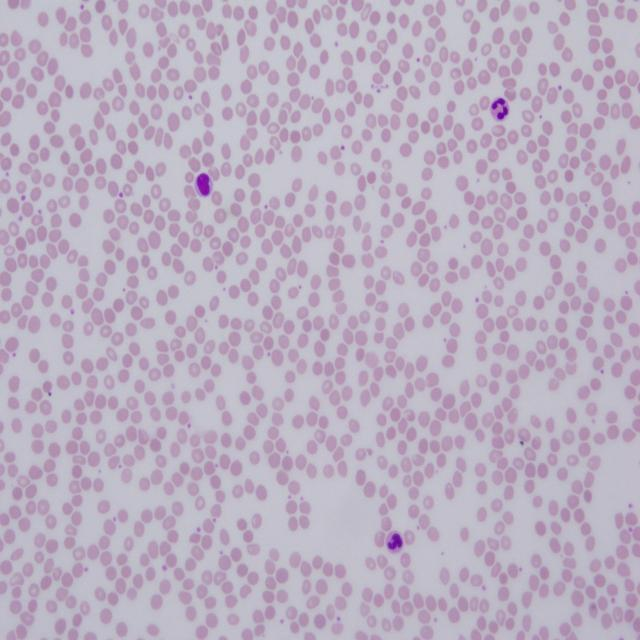cell: (491, 97, 509, 121), (386, 531, 404, 553)
